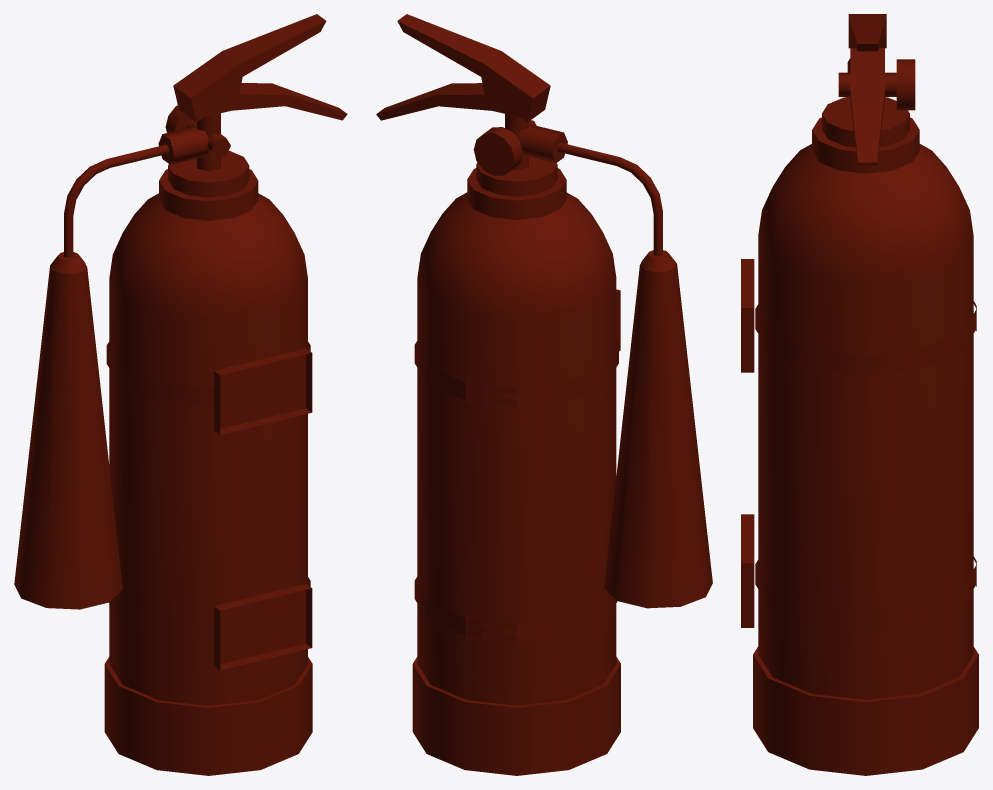
File: fire3.FBX
3 views of the same model, side by side, from view 1: azimuth 30°, elevation 25°; view 2: azimuth 150°, elevation 25°; view 3: azimuth 270°, elevation 25° (orthographic). The views are drawn at different scales.
Parts seen in each view (by area): view 1: fire3; view 2: fire3; view 3: fire3.
Boxes of the visible parts, x1=… form: fire3: x1=14, y1=14, x2=347, y2=775; fire3: x1=376, y1=14, x2=712, y2=775; fire3: x1=741, y1=14, x2=978, y2=775.
Bounding box in the file's own units: 27.04 × 54.8 × 15.86.
